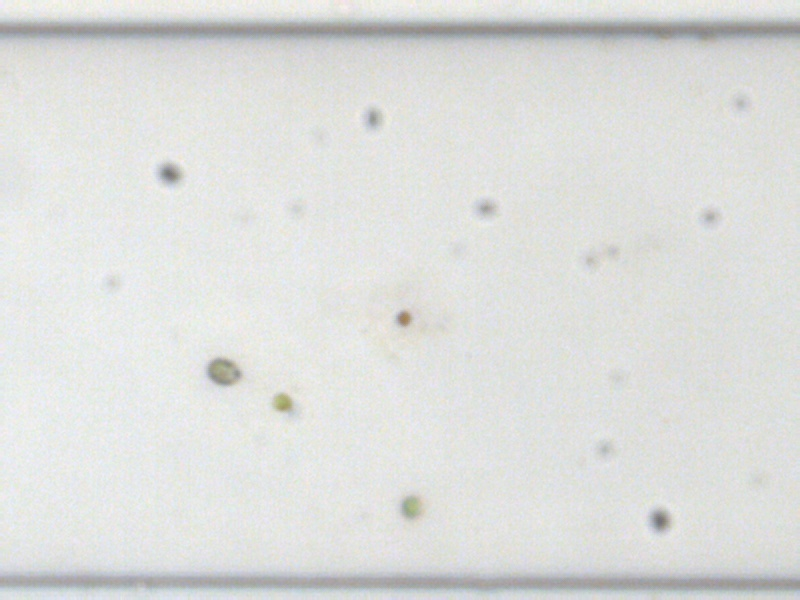Chlorella: (400, 493, 422, 519), (270, 391, 293, 411)
Dunaliella salina: (202, 354, 243, 387)
Porphyridium: (393, 308, 412, 327)
